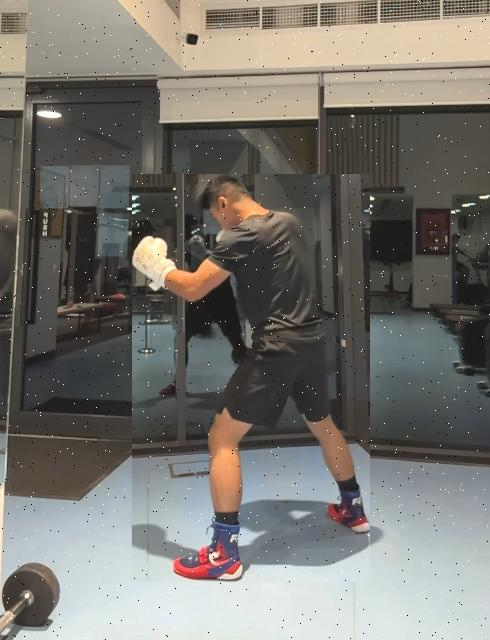punch: (132, 174, 370, 582)
